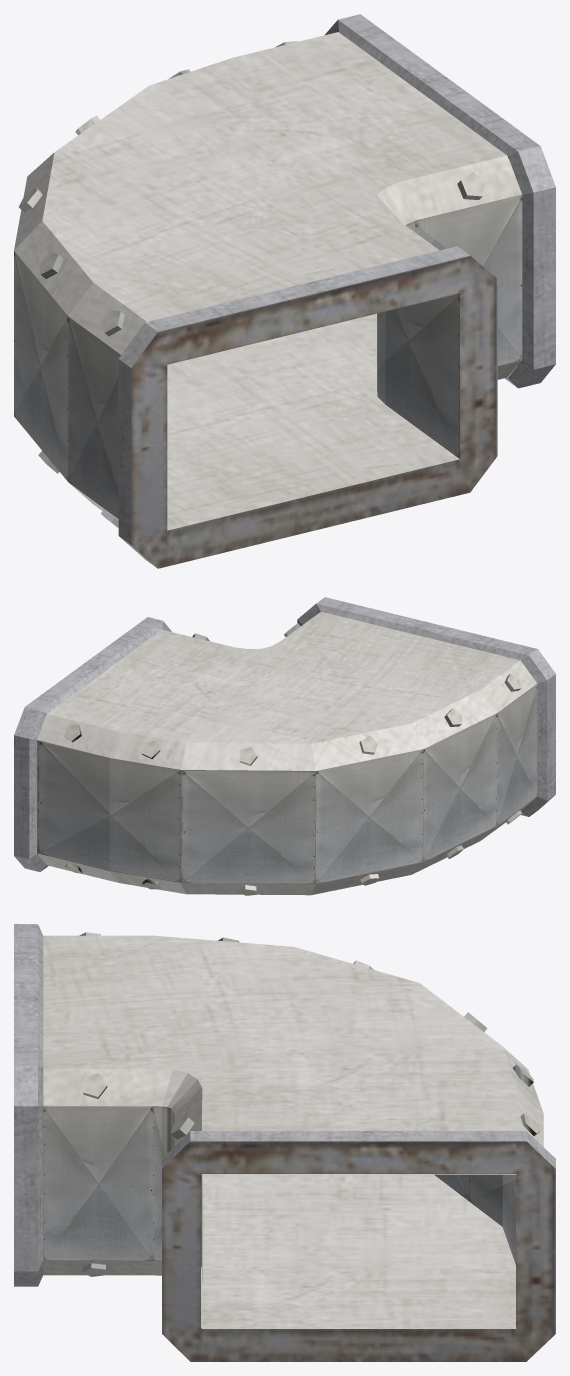
The model's file is Air Ducts_Codo_H.fbx.
3 renders of one model, top to bottom at view 1: azimuth 30°, elevation 25°; view 2: azimuth 150°, elevation 25°; view 3: azimuth 270°, elevation 25°, orthographic. The views are drawn at different scales.
Parts seen in each view (by area): view 1: Codo_Horz; view 2: Codo_Horz; view 3: Codo_Horz.
Boxes of the visible parts, x1=… form: Codo_Horz: x1=14, y1=14, x2=555, y2=568; Codo_Horz: x1=14, y1=597, x2=555, y2=895; Codo_Horz: x1=14, y1=924, x2=555, y2=1361.
Bounding box in the file's own units: 82.89 × 37.18 × 82.75.
Materials: 1 (1 with a texture image).
